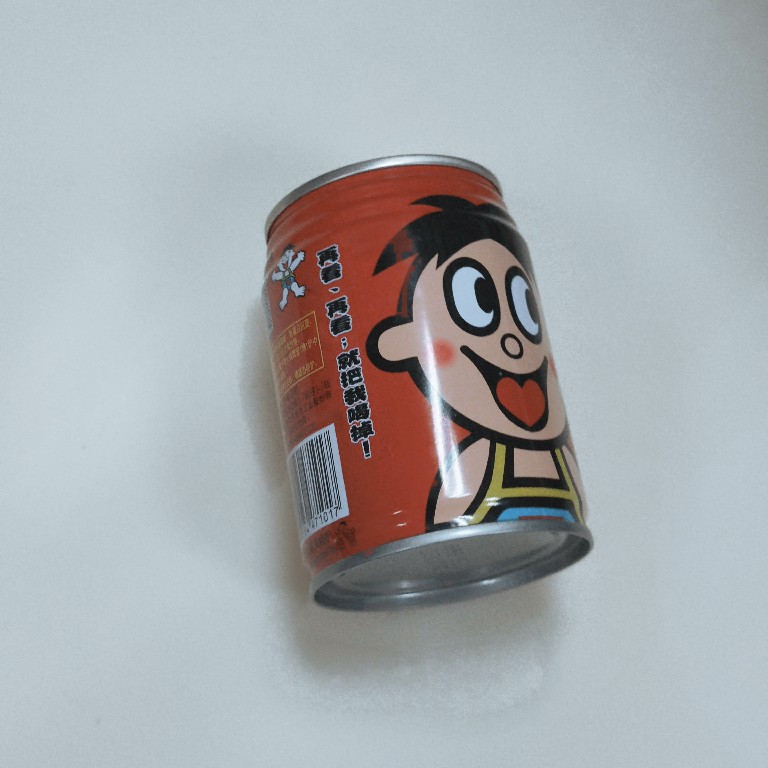can: (258, 152, 598, 617)
